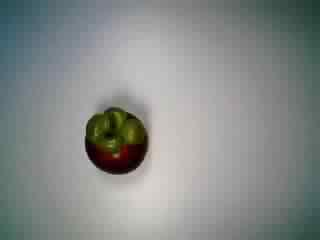mangosteen: (76, 102, 152, 175)
